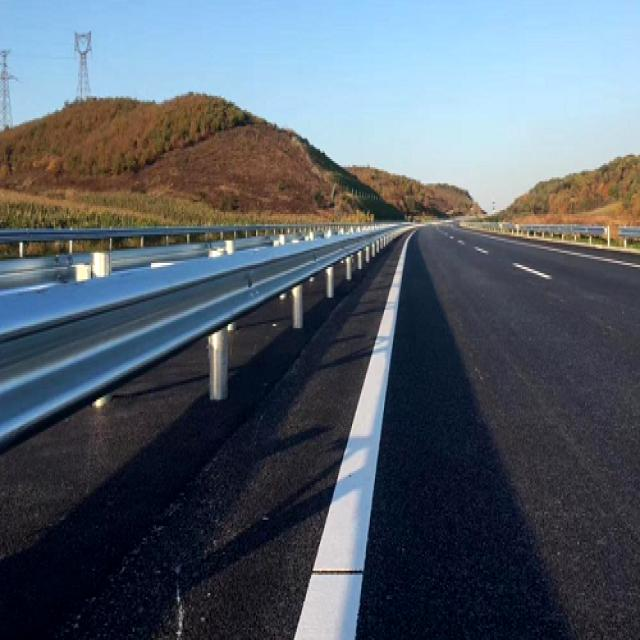Guard rail: (2, 223, 408, 447), (111, 241, 225, 272), (0, 253, 91, 290), (235, 235, 279, 251), (286, 231, 304, 242)
